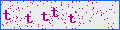t: (3, 10, 11, 21), (51, 7, 59, 17), (68, 14, 76, 23), (41, 12, 49, 21), (25, 14, 33, 23)
